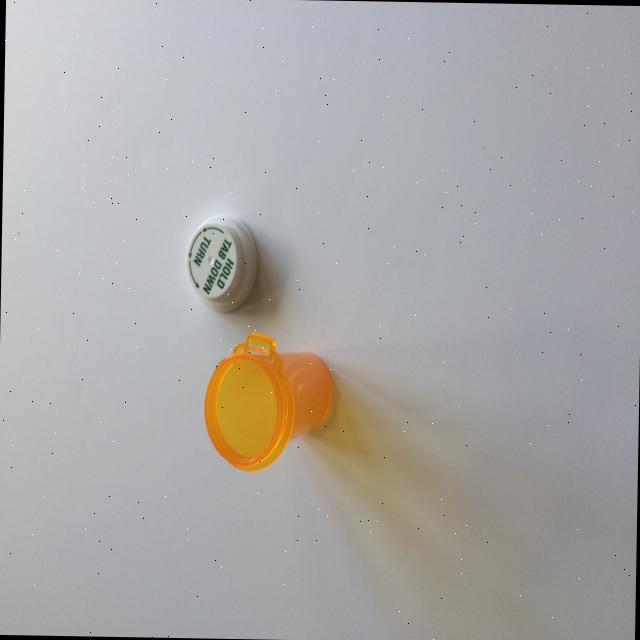plastic: (202, 329, 334, 474)
